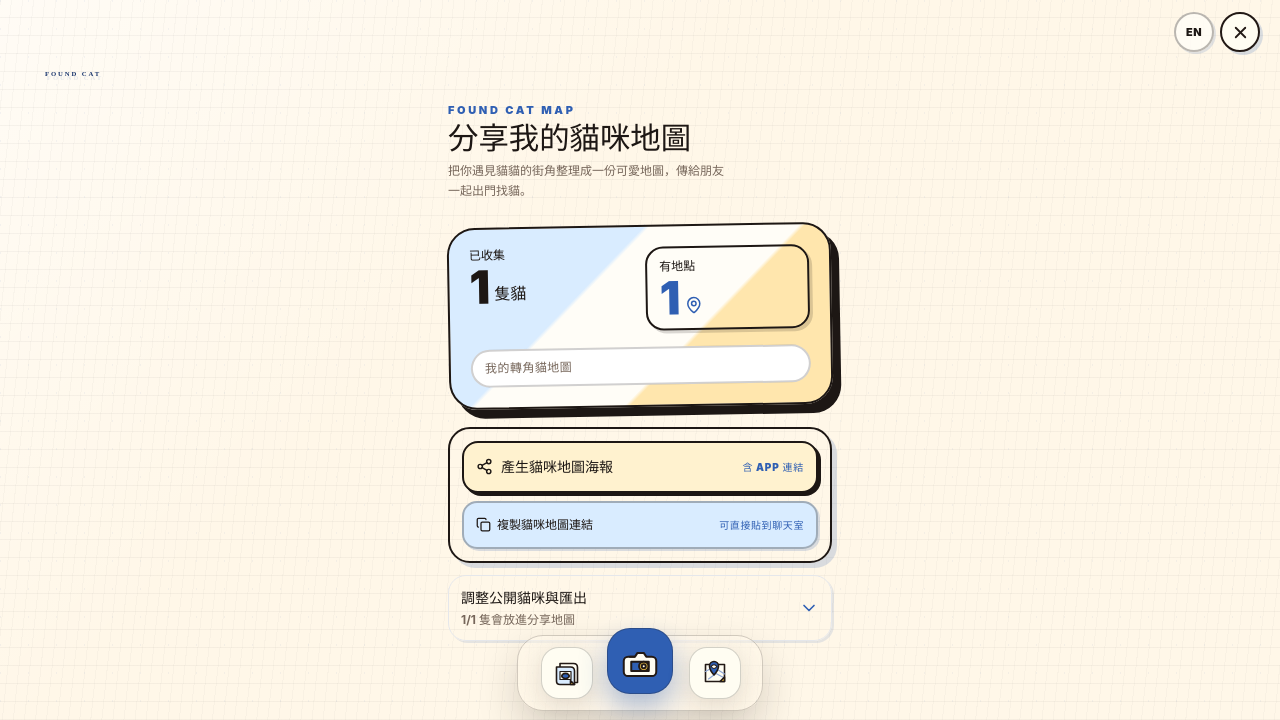
ShareCatdex page › defaults to selecting mapped cats after records finish loading
Click the button "調整公開貓咪與匯出 1/1 隻會放進分享地圖".
click(524, 597)  # box [448,575,832,641]
(page scrolled)
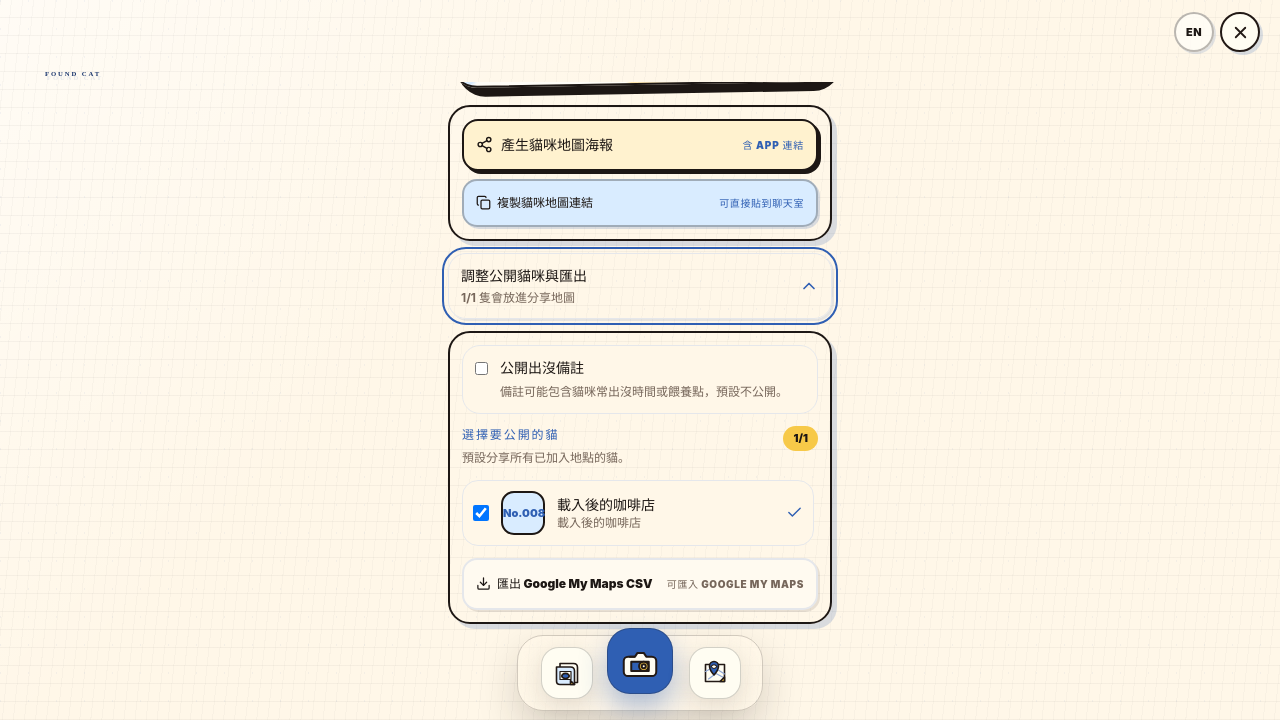
Expected: the checkbox named "選取 載入後的咖啡店" is checked, [473,505,489,521]
